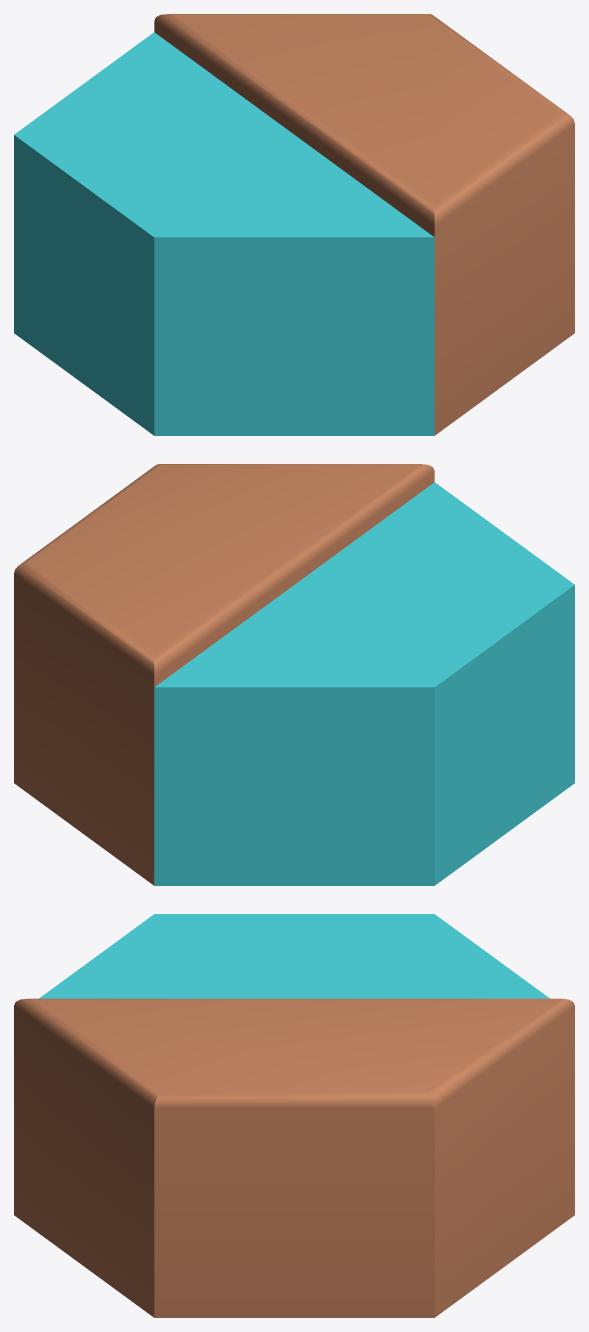
Rendered from hex_rock_waterB.glb.
The picture shows the model from 3 angles, top to bottom: view 1: azimuth 30°, elevation 25°; view 2: azimuth 150°, elevation 25°; view 3: azimuth 270°, elevation 25°; orthographic projection.
Visible parts, largest first — view 1: hex_rock_waterB; view 2: hex_rock_waterB; view 3: hex_rock_waterB.
Part boxes in pixels (<box>): hex_rock_waterB: <box>14,14,574,435</box>; hex_rock_waterB: <box>14,464,574,885</box>; hex_rock_waterB: <box>14,914,574,1317</box>.
Bounding box in the file's own units: 2 × 1 × 2.31.
